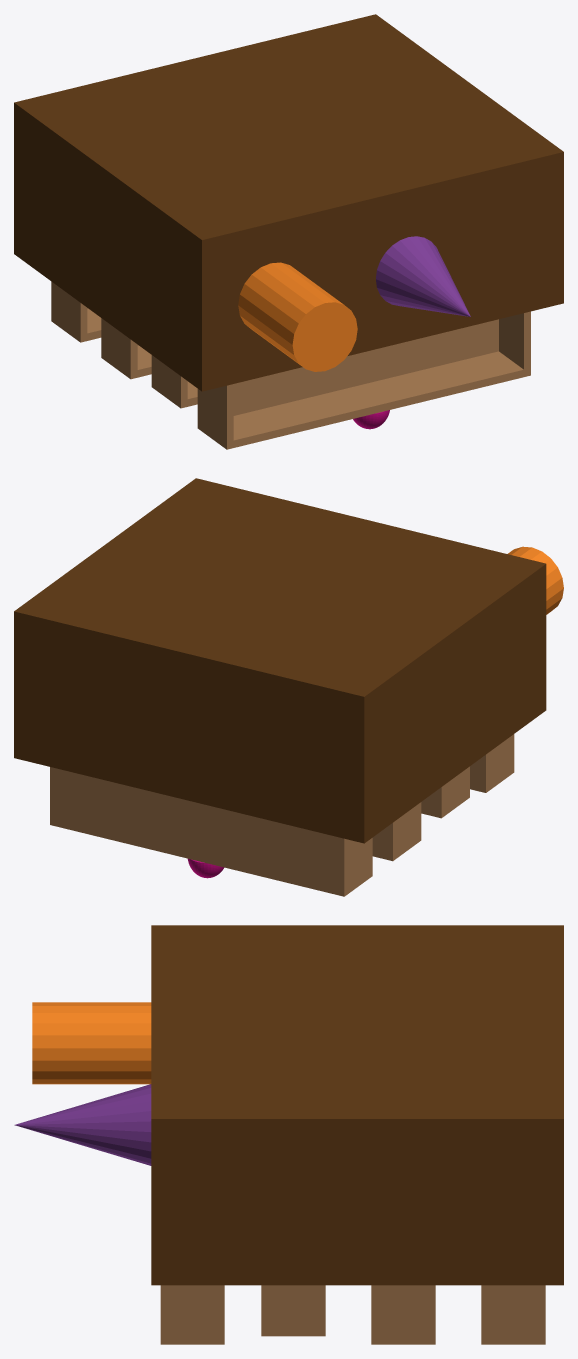
File: tinker[1].obj
3 views of the same model, one above another, from view 1: azimuth 30°, elevation 25°; view 2: azimuth 150°, elevation 25°; view 3: azimuth 270°, elevation 25° (orthographic). The views are drawn at different scales.
Parts seen in each view (by area): view 1: group_0_6306067, group_0_11107152, group_0_16089887, group_0_8273816; view 2: group_0_6306067, group_0_11107152, group_0_16089887; view 3: group_0_6306067, group_0_11107152, group_0_16089887, group_0_8273816.
Boxes of the visible parts, x1,y1,x2,y2 form: group_0_6306067: (14,14,563,391); group_0_11107152: (51,281,530,449); group_0_16089887: (238,262,357,371); group_0_8273816: (376,236,470,316); group_0_6306067: (14,478,546,843); group_0_11107152: (50,734,514,896); group_0_16089887: (508,546,563,614); group_0_6306067: (151,925,563,1285); group_0_11107152: (160,1285,545,1344); group_0_16089887: (32,1002,151,1084); group_0_8273816: (14,1084,151,1165).
Bounding box in the file's own units: 50 × 33.5 × 60.
